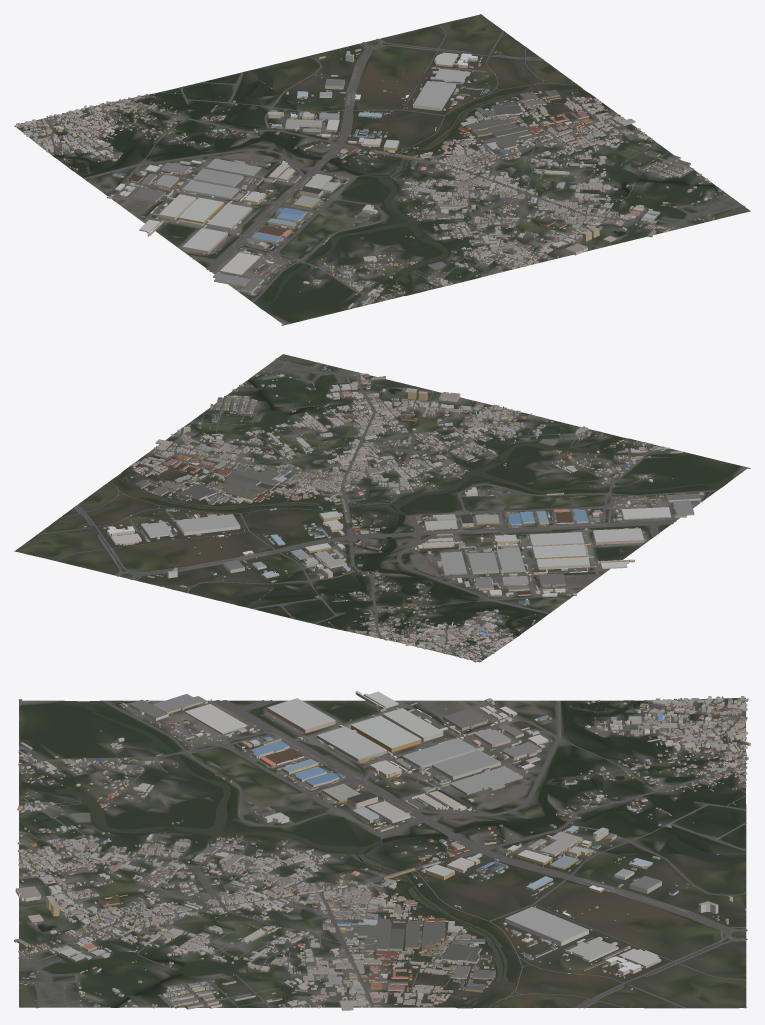
The picture shows the model from 3 angles, top to bottom: view 1: azimuth 30°, elevation 25°; view 2: azimuth 150°, elevation 25°; view 3: azimuth 270°, elevation 25°; orthographic projection. The views are drawn at different scales.
Visible parts, largest first — view 1: ground, buildings, roads, water; view 2: ground, buildings, roads, water; view 3: ground, buildings, roads, water.
Part boxes in pixels (x1=…): ground: x1=16, y1=14, x2=750, y2=324; buildings: x1=14, y1=48, x2=734, y2=308; roads: x1=20, y1=14, x2=744, y2=325; water: x1=54, y1=40, x2=715, y2=308; ground: x1=15, y1=354, x2=746, y2=662; buildings: x1=84, y1=360, x2=704, y2=662; roads: x1=14, y1=358, x2=750, y2=658; water: x1=51, y1=379, x2=725, y2=635; ground: x1=19, y1=697, x2=746, y2=1008; buildings: x1=14, y1=691, x2=750, y2=1010; roads: x1=18, y1=698, x2=747, y2=1008; water: x1=19, y1=700, x2=745, y2=1007.
Size of the model in its own units: 2897 by 47.57 by 2839.
